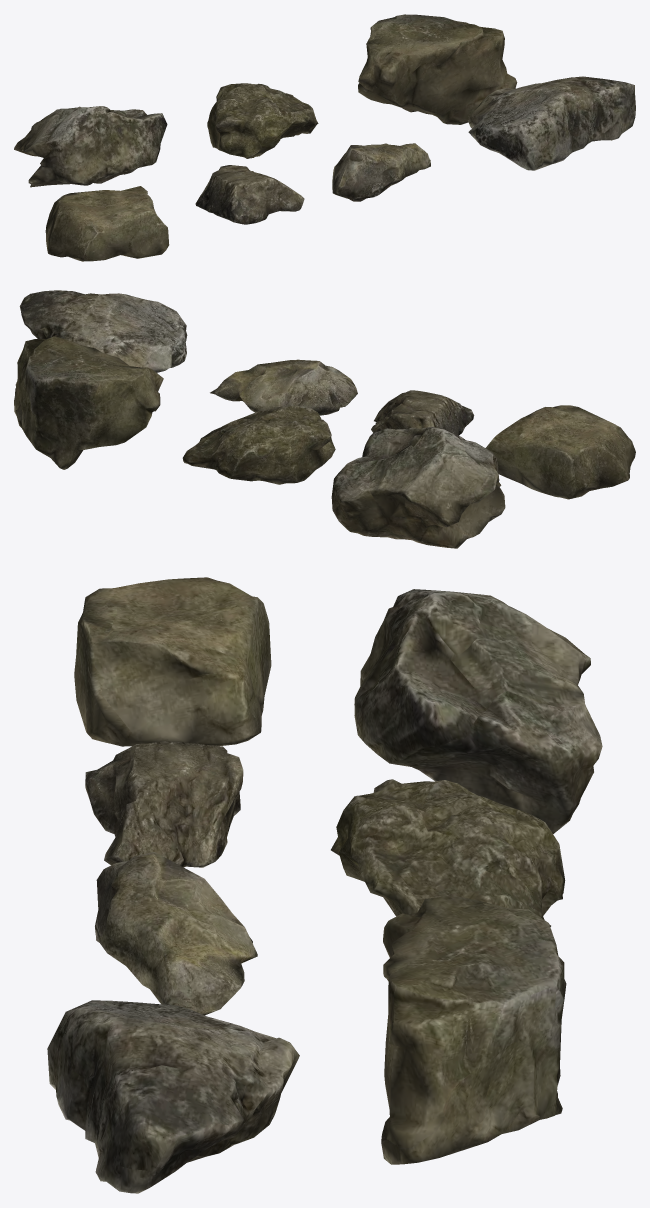
File: ph-rock_moss_set_02.glb
3 views of the same model, one above another, from view 1: azimuth 30°, elevation 25°; view 2: azimuth 150°, elevation 25°; view 3: azimuth 270°, elevation 25° (orthographic). The views are drawn at different scales.
Visible parts, largest first — view 1: rock_moss_set_02_rock08; view 2: rock_moss_set_02_rock08; view 3: rock_moss_set_02_rock08.
Boxes of the visible parts, box(x1,y1,x2,y2) form: rock_moss_set_02_rock08: box(14, 14, 635, 261); rock_moss_set_02_rock08: box(14, 290, 635, 548); rock_moss_set_02_rock08: box(47, 577, 602, 1193).
Size of the model in its own units: 8.27 by 1.36 by 3.41.
1 material, 1 textured.
